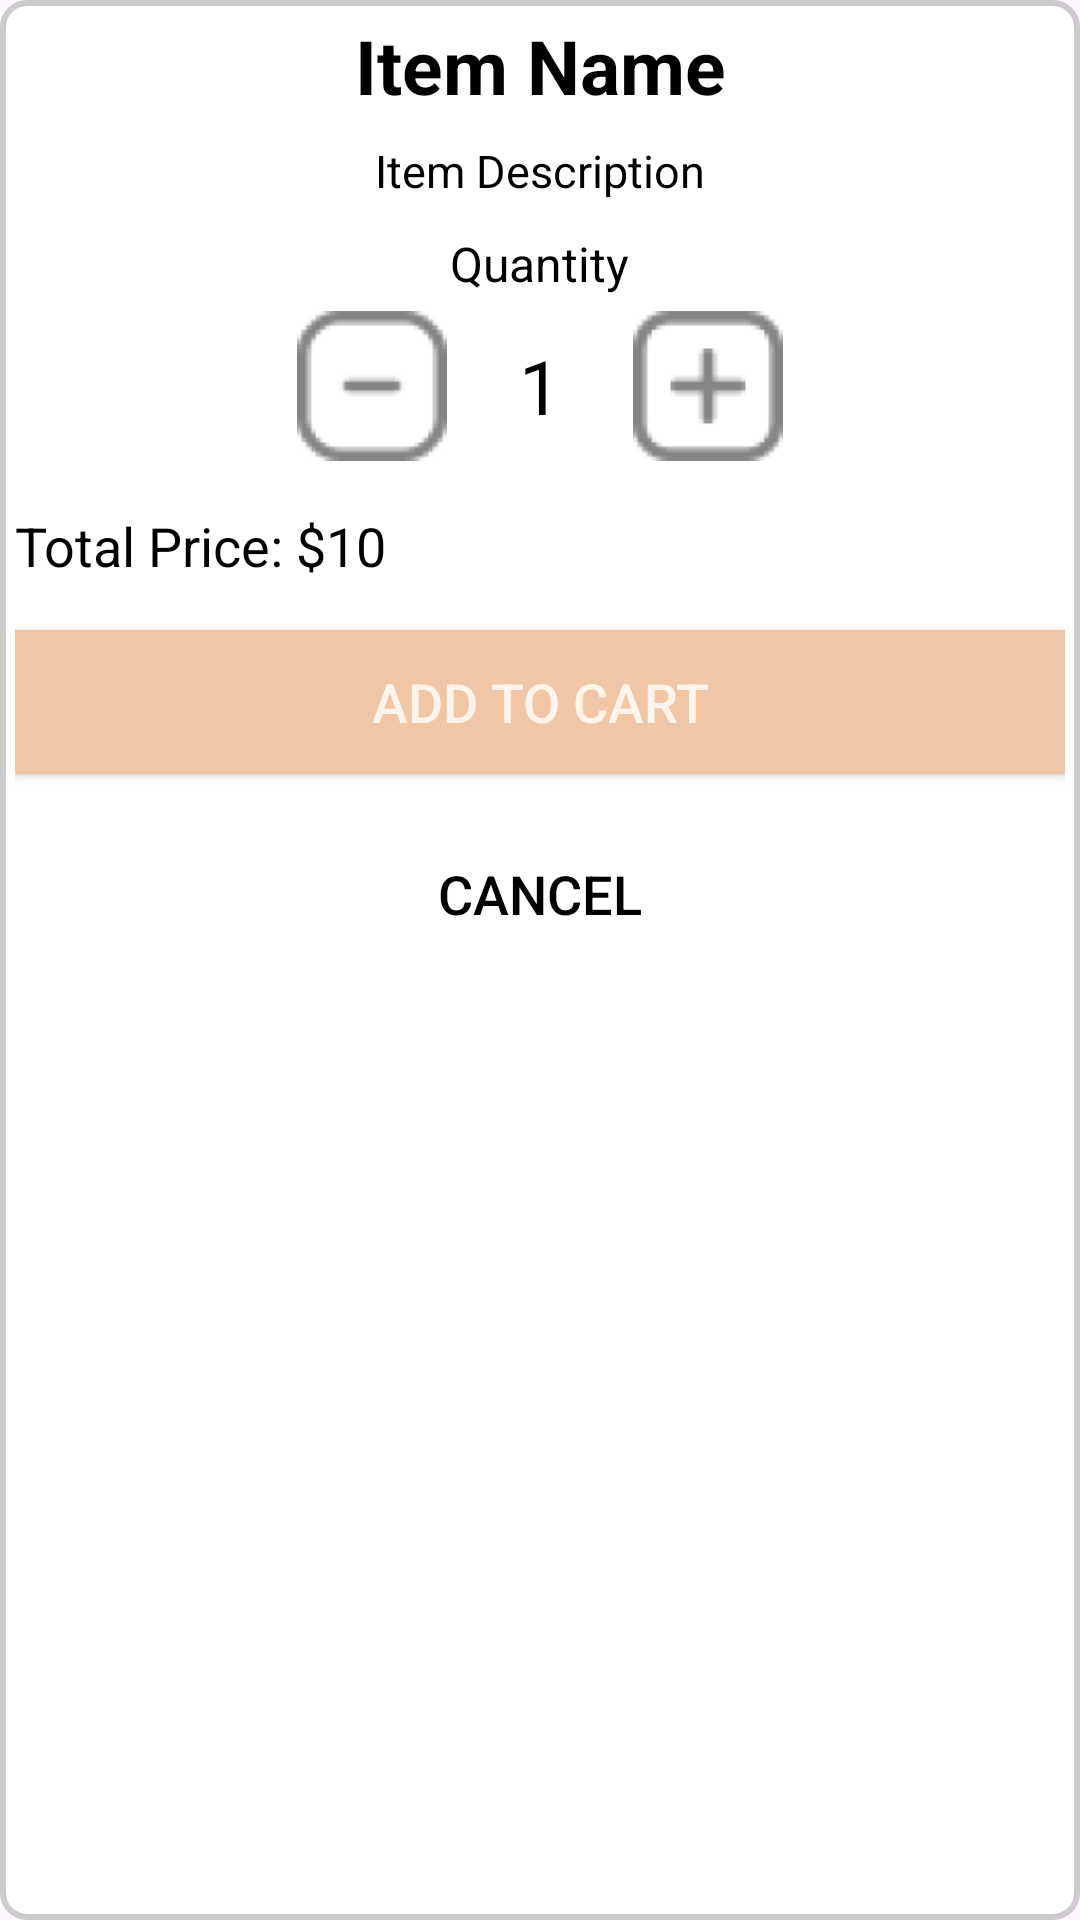

Icons on this 1080px x 1920px Android screen, each with its box as rect(x1, y1, x2, y2):
Minus: rect(297, 311, 447, 461)
Plus: rect(633, 311, 783, 461)
